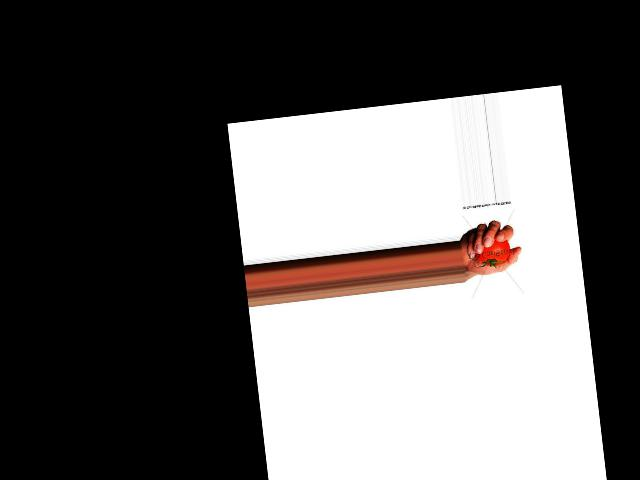tomato: (473, 239, 512, 267)
